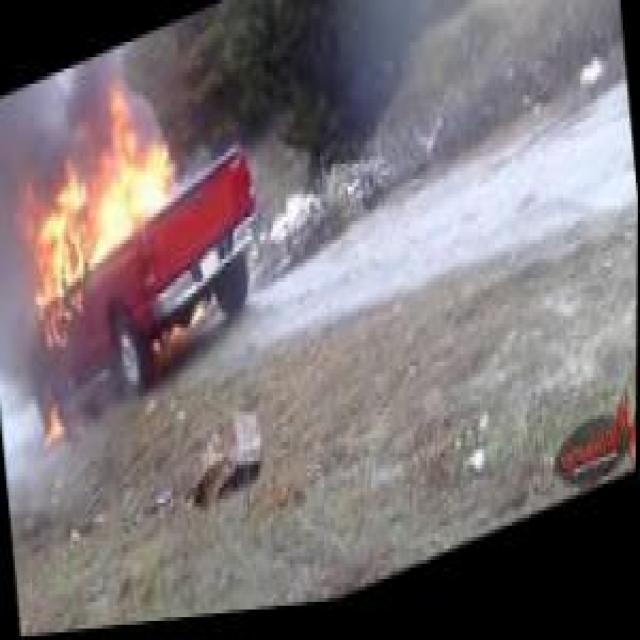Fire: (7, 61, 198, 354), (34, 392, 73, 465)
Smoke: (303, 0, 625, 206), (0, 68, 77, 186)
